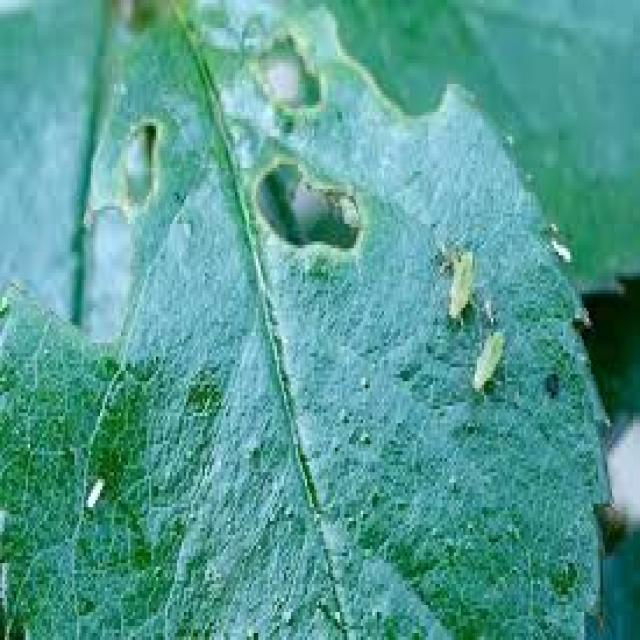aphid: (428, 231, 489, 332), (458, 315, 514, 409)
